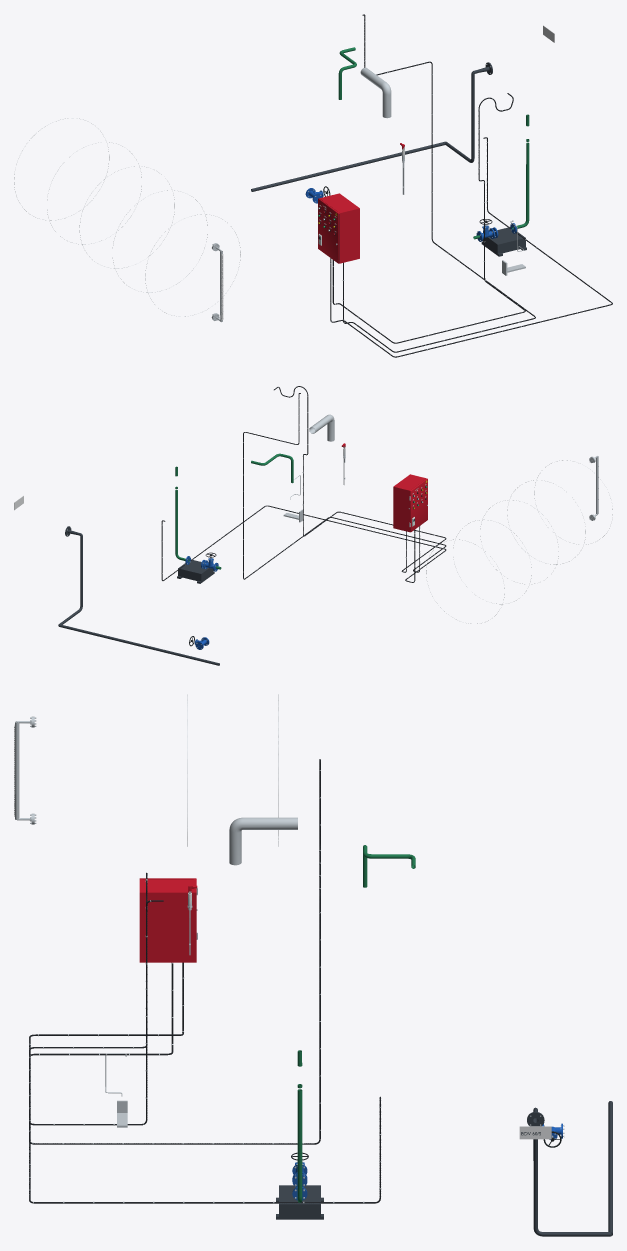
The picture shows the model from 3 angles, top to bottom: view 1: azimuth 30°, elevation 25°; view 2: azimuth 150°, elevation 25°; view 3: azimuth 270°, elevation 25°; orthographic projection. The views are drawn at different scales.
Visible parts, largest first — view 1: control_cabinet / control_cabinet_0.npz, gpz_drive_cable / black, cabinet_door / cabinet_door_5.npz, wiring_pump_2 / black, wiring_pressure_switch_3 / black, pump_branch_1 / dark, bottom_discharge / dark, deaerator_details / steel, bottom_to_bdv / dark, steam_rise / steel; view 2: control_cabinet / control_cabinet_0.npz, gpz_drive_cable / black, cabinet_door / cabinet_door_5.npz, wiring_pump_2 / black, wiring_pressure_switch_3 / black, bottom_discharge / dark, pump_branch_1 / dark, deaerator_details / steel, bottom_to_bdv / dark; view 3: control_cabinet / control_cabinet_0.npz, wiring_pump_2 / black, gpz_drive_cable / black, wiring_pressure_switch_3 / black, steam_rise / steel, pump_branch_1 / dark, bottom_to_bdv / dark, deaerator_details / steel, pump_branch_1 / green.
Part boxes in pixels (bbox=[...]): control_cabinet / control_cabinet_0.npz: bbox=[319, 193, 359, 263]; gpz_drive_cable / black: bbox=[343, 14, 535, 352]; cabinet_door / cabinet_door_5.npz: bbox=[318, 198, 339, 263]; wiring_pump_2 / black: bbox=[330, 137, 612, 357]; wiring_pressure_switch_3 / black: bbox=[332, 93, 525, 343]; pump_branch_1 / dark: bbox=[481, 227, 526, 256]; bottom_discharge / dark: bbox=[251, 141, 445, 191]; deaerator_details / steel: bbox=[14, 118, 240, 322]; bottom_to_bdv / dark: bbox=[445, 62, 492, 162]; steam_rise / steel: bbox=[360, 67, 391, 118]; control_cabinet / control_cabinet_0.npz: bbox=[393, 474, 426, 532]; gpz_drive_cable / black: bbox=[243, 393, 446, 579]; cabinet_door / cabinet_door_5.npz: bbox=[409, 478, 427, 532]; wiring_pump_2 / black: bbox=[161, 505, 446, 582]; wiring_pressure_switch_3 / black: bbox=[274, 386, 446, 572]; bottom_discharge / dark: bbox=[58, 624, 219, 665]; pump_branch_1 / dark: bbox=[177, 559, 214, 583]; deaerator_details / steel: bbox=[426, 456, 612, 623]; bottom_to_bdv / dark: bbox=[58, 526, 82, 625]; control_cabinet / control_cabinet_0.npz: bbox=[139, 879, 197, 962]; wiring_pump_2 / black: bbox=[29, 963, 380, 1203]; gpz_drive_cable / black: bbox=[29, 759, 320, 1144]; wiring_pressure_switch_3 / black: bbox=[29, 872, 183, 1125]; steam_rise / steel: bbox=[229, 817, 297, 865]; pump_branch_1 / dark: bbox=[276, 1185, 323, 1219]; bottom_to_bdv / dark: bbox=[527, 1107, 610, 1236]; deaerator_details / steel: bbox=[15, 694, 278, 846]; pump_branch_1 / green: bbox=[297, 1050, 302, 1202].
Bounding box in the file's own units: 8.4 × 3.71 × 5.59.
